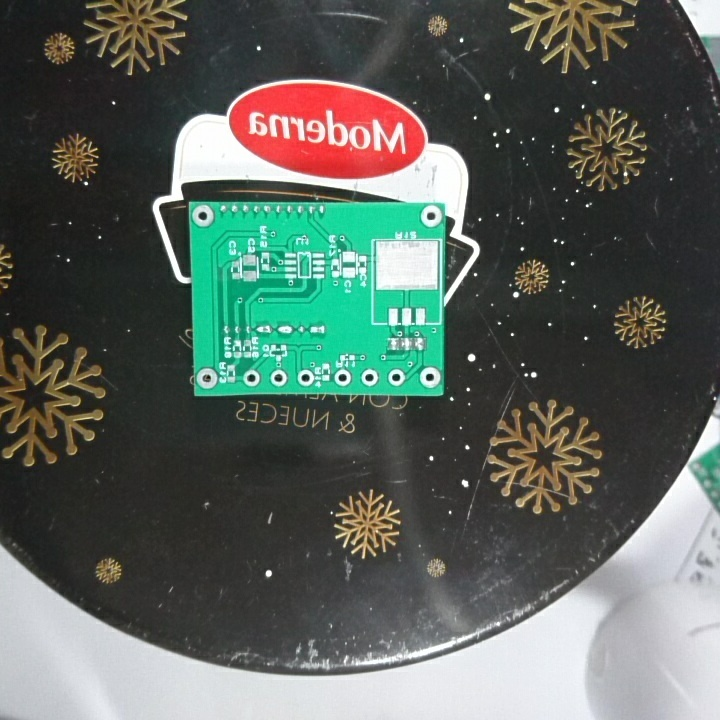F: (194, 364, 219, 391), (191, 203, 216, 228), (419, 204, 443, 229), (418, 365, 440, 390), (386, 368, 408, 391), (268, 367, 289, 389), (332, 366, 352, 387), (360, 368, 380, 389), (295, 367, 315, 387), (242, 367, 261, 387)
P: (253, 320, 274, 337), (274, 322, 296, 338), (305, 323, 326, 338)
